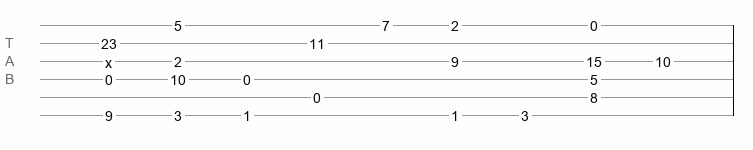0: (105, 72, 113, 82), (243, 72, 251, 82), (313, 90, 321, 100), (590, 18, 598, 28)
1: (243, 108, 251, 118), (451, 108, 459, 118)
10: (170, 72, 186, 82), (655, 54, 671, 64)
11: (309, 36, 325, 46)
15: (586, 54, 602, 64)
2: (174, 54, 182, 64), (451, 18, 459, 28)
23: (101, 36, 117, 46)
3: (174, 108, 182, 118), (521, 108, 529, 118)
5: (174, 18, 182, 28), (590, 72, 598, 82)
7: (382, 18, 390, 28)
8: (590, 90, 598, 100)
9: (105, 108, 113, 118), (451, 54, 459, 64)
x: (105, 55, 112, 63)
